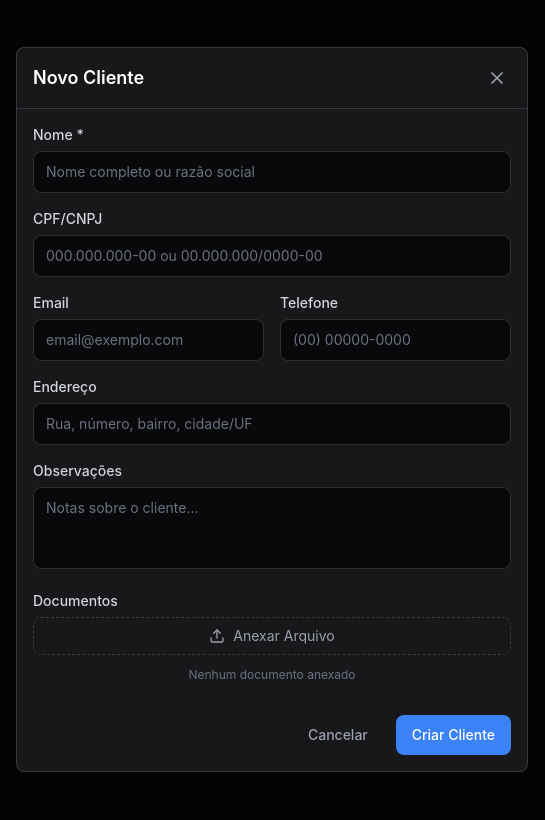
Test: ClientForm › Error Handling › should display error message when save fails
The width and height of the screenshot is (545, 820).
Type "Test" into the field with placeholder "Nome completo ou razão social" at (272, 172), box [33, 150, 511, 192]
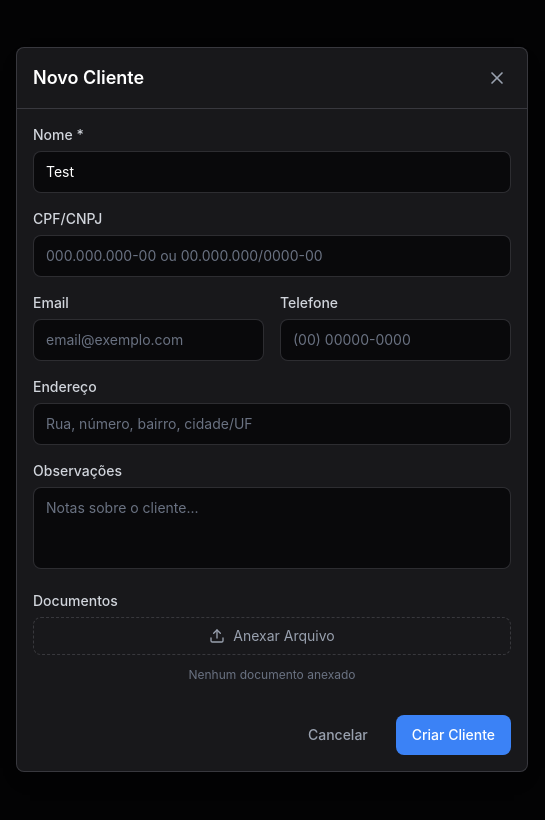
Click the button "Criar Cliente" at (453, 734), box [396, 714, 511, 754]
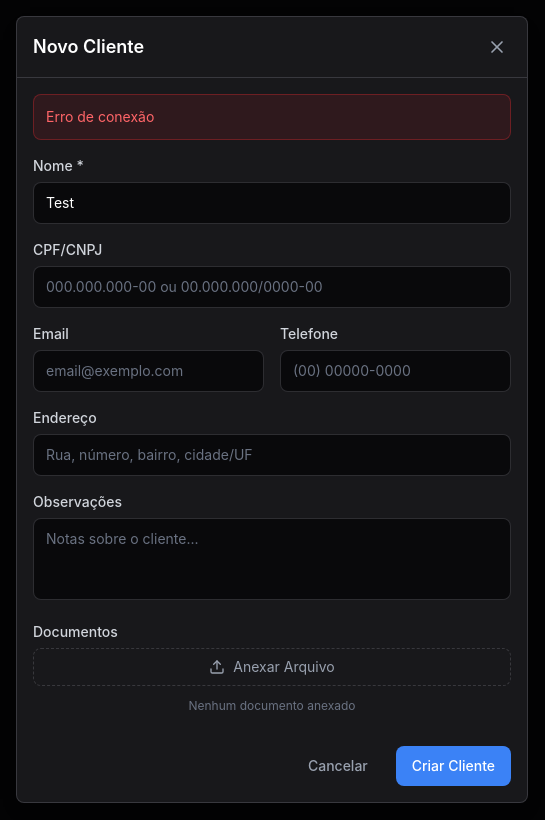
Expected: the text "Erro de conexão" is shown, [33, 94, 511, 140]
